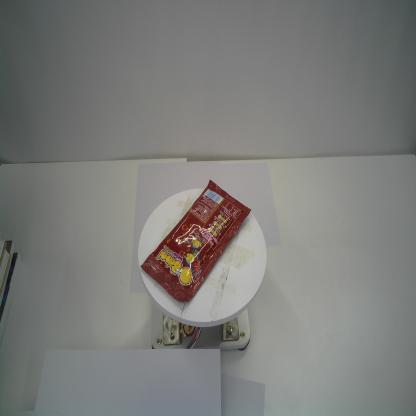Candy: (140, 176, 252, 302)
